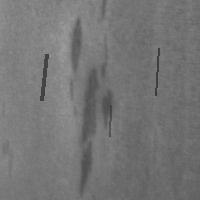inclusion: (76, 35, 114, 197), (65, 15, 87, 103), (97, 86, 117, 132), (2, 139, 23, 178), (39, 52, 48, 102), (153, 46, 160, 97), (99, 1, 110, 23), (107, 103, 112, 138)
